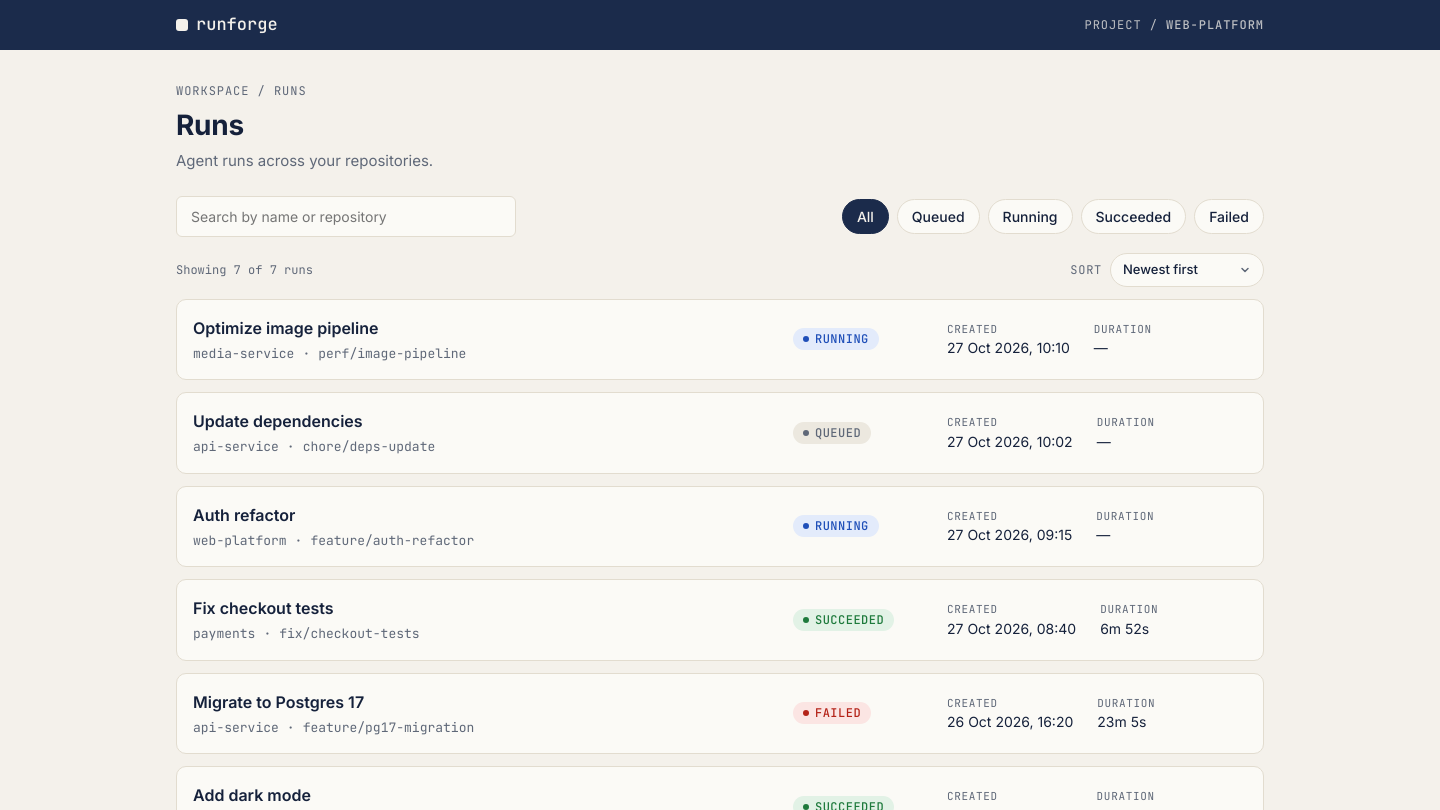
Test: Runs page › filters runs by status
Check: the link "Auth refactor" is shown, box [193,504,295,524]
Click the button "Failed" at (1229, 216), box [1194,199,1264,234]
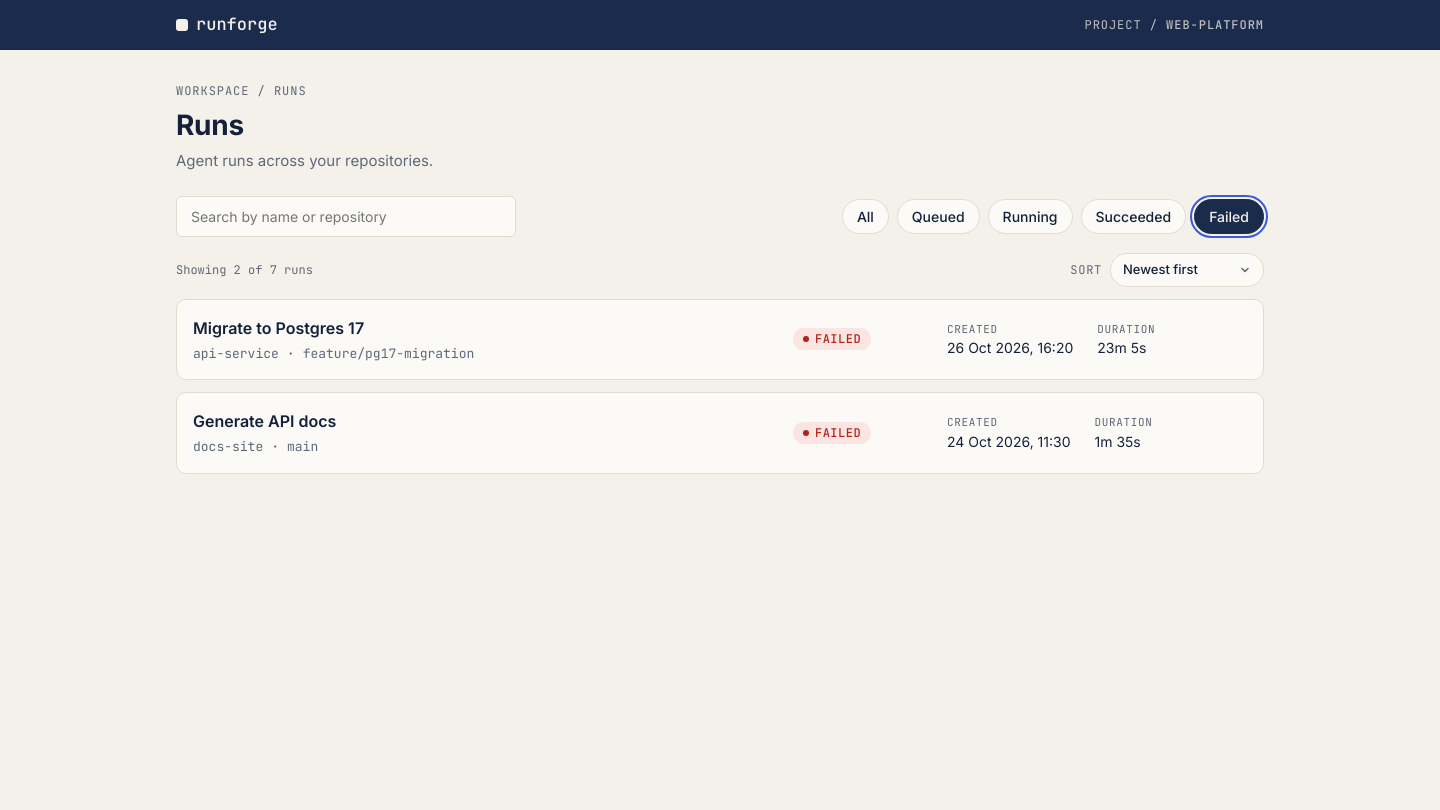
Check: the link "Migrate to Postgres 17" is shown, box [193,318,364,338]
Check: the number of list items is 2, box [176,298,1264,380]; [176,392,1264,474]
Check: the link "Auth refactor" is gone
